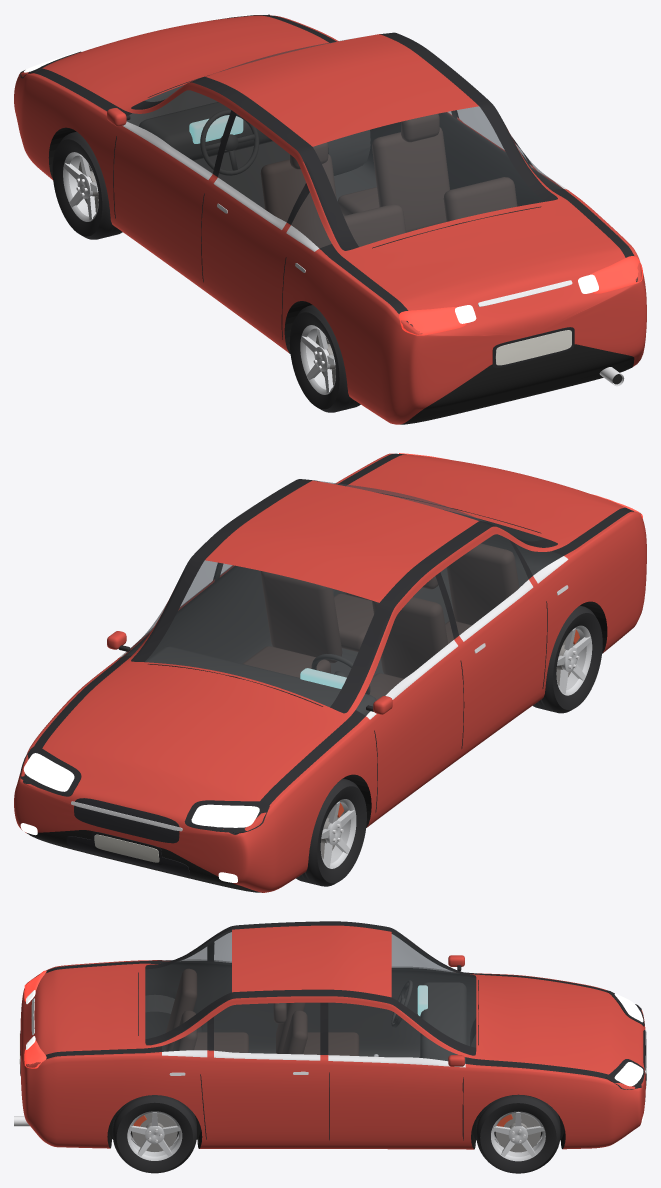
File: CorvanaSedan.glb
3 views of the same model, one above another, from view 1: azimuth 30°, elevation 25°; view 2: azimuth 150°, elevation 25°; view 3: azimuth 270°, elevation 25° (orthographic). The views are drawn at different scales.
Visible parts, largest first — view 1: CorvanaSedan_Body, CorvanaSedan_Glass, CorvanaSedan_Interior, CorvanaSedan_Wheel_FL, CorvanaSedan_Wheel_RL, CorvanaSedan_Lights_Tail, CorvanaSedan_Steering, CorvanaSedan_Lights_Reverse; view 2: CorvanaSedan_Body, CorvanaSedan_Glass, CorvanaSedan_Interior, CorvanaSedan_Wheel_FL, CorvanaSedan_Wheel_RL, CorvanaSedan_Lights_Head; view 3: CorvanaSedan_Body, CorvanaSedan_Glass, CorvanaSedan_Interior, CorvanaSedan_Wheel_FR, CorvanaSedan_Wheel_RR, CorvanaSedan_Lights_Head, CorvanaSedan_Lights_Tail.
Boxes of the visible parts, x1=… form: CorvanaSedan_Body: x1=14, y1=14, x2=646, y2=424; CorvanaSedan_Glass: x1=127, y1=39, x2=562, y2=248; CorvanaSedan_Interior: x1=127, y1=85, x2=562, y2=248; CorvanaSedan_Wheel_FL: x1=52, y1=131, x2=122, y2=239; CorvanaSedan_Wheel_RL: x1=289, y1=305, x2=360, y2=412; CorvanaSedan_Lights_Tail: x1=399, y1=256, x2=642, y2=335; CorvanaSedan_Steering: x1=200, y1=109, x2=259, y2=175; CorvanaSedan_Lights_Reverse: x1=455, y1=274, x2=598, y2=323; CorvanaSedan_Body: x1=14, y1=453, x2=646, y2=892; CorvanaSedan_Glass: x1=123, y1=480, x2=562, y2=715; CorvanaSedan_Interior: x1=124, y1=511, x2=562, y2=715; CorvanaSedan_Wheel_FL: x1=296, y1=778, x2=366, y2=886; CorvanaSedan_Wheel_RL: x1=533, y1=605, x2=602, y2=713; CorvanaSedan_Lights_Head: x1=20, y1=753, x2=259, y2=882; CorvanaSedan_Body: x1=14, y1=921, x2=646, y2=1149; CorvanaSedan_Glass: x1=145, y1=930, x2=475, y2=1063; CorvanaSedan_Interior: x1=110, y1=930, x2=476, y2=1146; CorvanaSedan_Wheel_FR: x1=476, y1=1094, x2=560, y2=1173; CorvanaSedan_Wheel_RR: x1=112, y1=1095, x2=196, y2=1173; CorvanaSedan_Lights_Head: x1=614, y1=993, x2=644, y2=1124; CorvanaSedan_Lights_Tail: x1=24, y1=970, x2=46, y2=1068.
Bounding box in the file's own units: 1.9 × 1.46 × 4.88.
